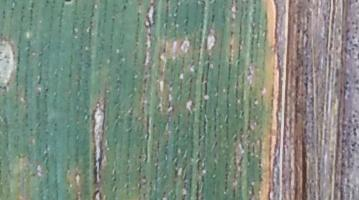tarspot: (210, 13, 216, 25), (145, 32, 154, 40), (351, 126, 358, 136), (109, 16, 116, 24), (350, 141, 357, 148), (66, 72, 73, 79), (161, 47, 167, 55), (136, 154, 144, 160), (122, 4, 128, 11), (43, 87, 50, 93), (143, 42, 149, 48), (296, 27, 301, 34), (344, 79, 349, 85), (164, 1, 172, 4), (63, 1, 72, 3), (354, 1, 359, 4), (306, 1, 312, 3)
